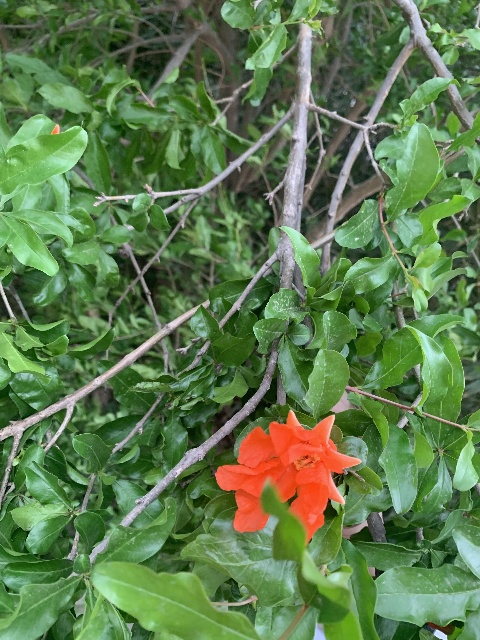flower: (215, 410, 361, 542)
